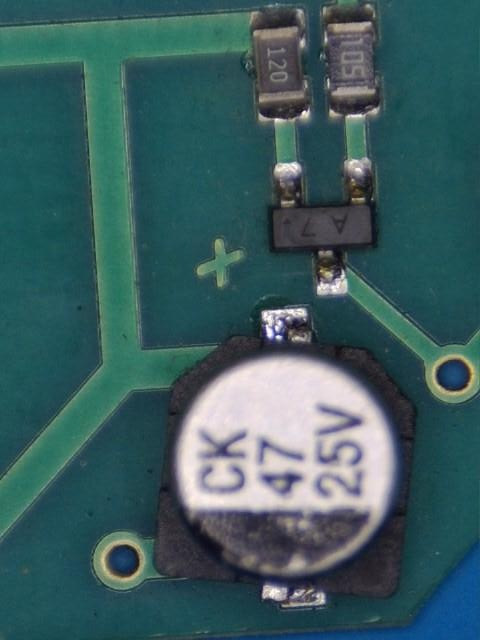pcb_defect: (152, 307, 416, 608)
